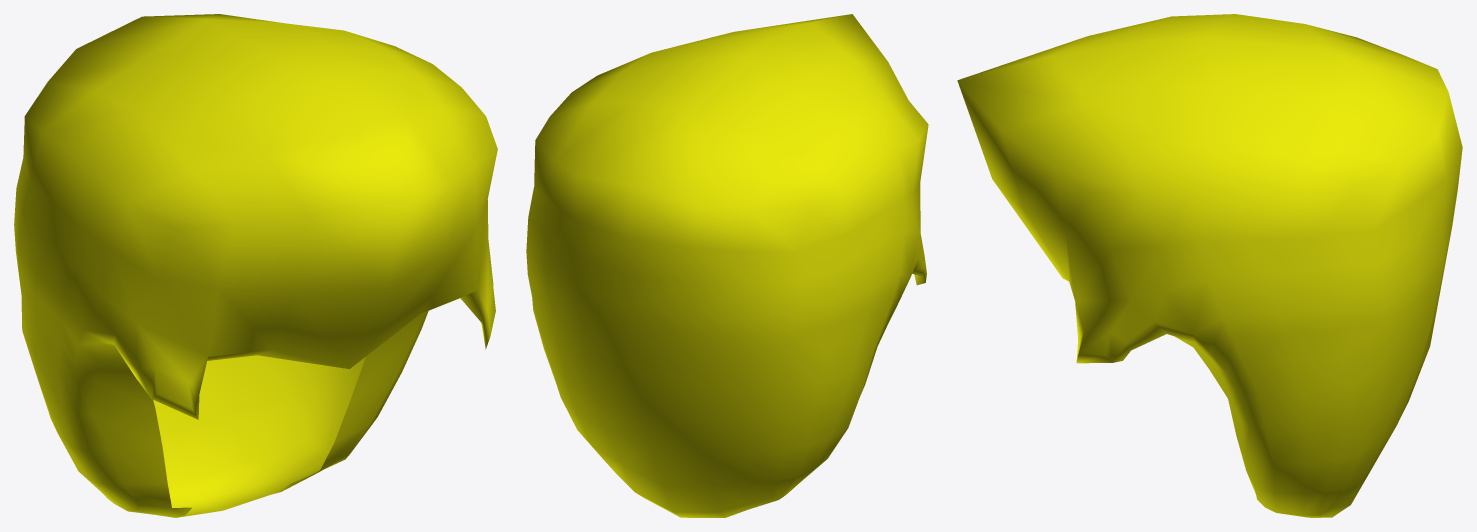
The model's file is cabello punta chico.dae.
3 views of the same model, side by side, from view 1: azimuth 30°, elevation 25°; view 2: azimuth 150°, elevation 25°; view 3: azimuth 270°, elevation 25° (orthographic). The views are drawn at different scales.
Parts seen in each view (by area): view 1: pasted__pasted__pasted__polySurface1; view 2: pasted__pasted__pasted__polySurface1; view 3: pasted__pasted__pasted__polySurface1.
Boxes of the visible parts, x1,y1,x2,y2 form: pasted__pasted__pasted__polySurface1: [14, 14, 497, 517]; pasted__pasted__pasted__polySurface1: [526, 14, 928, 517]; pasted__pasted__pasted__polySurface1: [957, 14, 1462, 517].
Bounding box in the file's own units: 0.9467 × 1.13 × 1.11.
